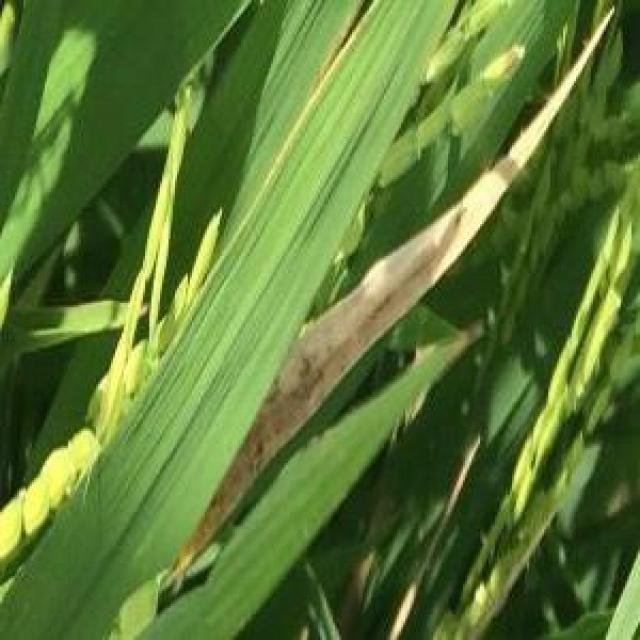leaf blight: (438, 9, 612, 275), (282, 213, 437, 431)
